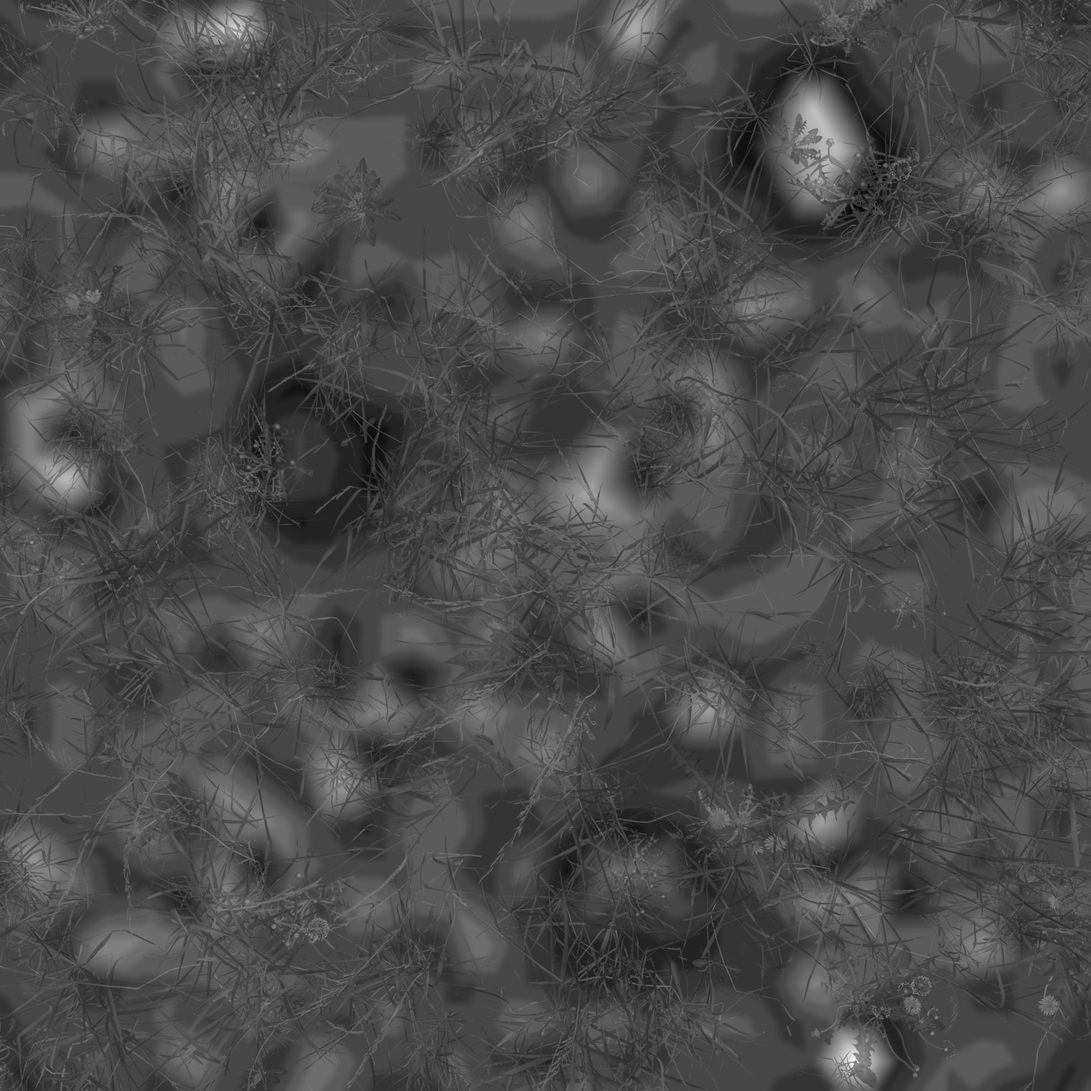landmine: (226, 367, 401, 543), (543, 807, 718, 973), (729, 60, 885, 223)
